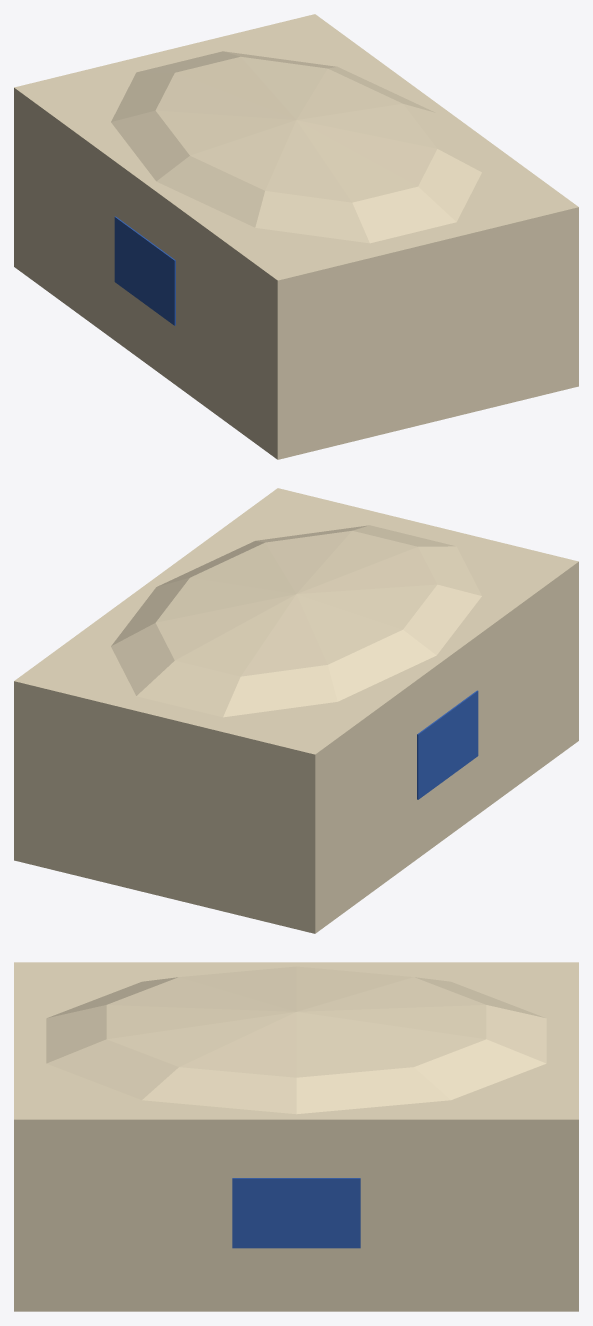
File: flour_sack.glb
3 renders of one model, top to bottom at view 1: azimuth 30°, elevation 25°; view 2: azimuth 150°, elevation 25°; view 3: azimuth 270°, elevation 25°, orthographic. The views are drawn at different scales.
Parts seen in each view (by area): view 1: sack_sack_paper (×2), band_sack_band; view 2: sack_sack_paper (×2), band_sack_band; view 3: sack_sack_paper (×2), band_sack_band.
Part boxes in pixels (x1,y1,x2,y2): sack_sack_paper (×2): [14, 14, 578, 459]; band_sack_band: [114, 216, 175, 325]; sack_sack_paper (×2): [14, 488, 578, 933]; band_sack_band: [417, 690, 478, 799]; sack_sack_paper (×2): [14, 962, 578, 1311]; band_sack_band: [232, 1178, 360, 1248].
Size of the model in its own units: 0.585 by 0.38 by 0.88.
